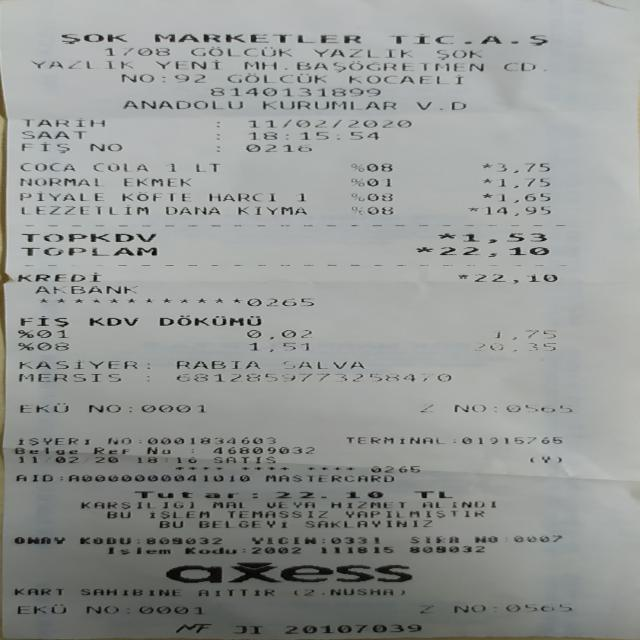text: (164, 562, 412, 584), (243, 58, 483, 74), (176, 371, 450, 384), (154, 33, 360, 44), (210, 85, 378, 97), (68, 472, 248, 483), (388, 34, 548, 46), (2, 204, 147, 217), (262, 98, 394, 112), (247, 118, 409, 129), (285, 622, 420, 634), (122, 98, 241, 111), (336, 74, 464, 86), (30, 57, 131, 72), (266, 472, 392, 484), (18, 358, 134, 371), (20, 246, 157, 257), (345, 508, 482, 519), (147, 435, 274, 446), (21, 232, 156, 242), (189, 45, 291, 58), (248, 130, 378, 140), (4, 190, 103, 203), (158, 314, 260, 326), (17, 371, 119, 383), (1, 176, 102, 188), (226, 72, 326, 84), (80, 586, 180, 598), (276, 488, 382, 499), (138, 488, 243, 499), (304, 519, 431, 528), (438, 246, 548, 256), (0, 271, 100, 282), (176, 358, 260, 371), (345, 435, 443, 446), (282, 358, 364, 371), (304, 586, 392, 598), (79, 500, 196, 509), (458, 435, 562, 445), (34, 285, 137, 295), (61, 30, 125, 46), (313, 48, 413, 58), (212, 445, 312, 455), (226, 509, 326, 519), (156, 57, 218, 73), (23, 116, 104, 128), (197, 586, 273, 598), (120, 190, 188, 203), (238, 204, 306, 217), (462, 232, 546, 242), (473, 273, 556, 283), (123, 176, 190, 188), (466, 342, 555, 351), (208, 190, 274, 202), (242, 296, 314, 307), (198, 519, 286, 528), (320, 544, 392, 555), (246, 328, 310, 340), (329, 499, 403, 509), (422, 499, 494, 509), (104, 46, 169, 57), (485, 205, 549, 216), (12, 445, 76, 456), (165, 204, 219, 217), (140, 510, 218, 519), (22, 129, 85, 140), (506, 402, 569, 413), (106, 545, 169, 556), (19, 314, 67, 328), (408, 545, 491, 553), (488, 329, 554, 339), (248, 341, 308, 352), (20, 140, 67, 154), (20, 161, 74, 173), (93, 162, 147, 174), (497, 161, 550, 173), (18, 401, 66, 414), (140, 404, 209, 413), (12, 586, 63, 598), (78, 535, 133, 546), (184, 544, 234, 556), (419, 99, 463, 112), (498, 177, 549, 188), (497, 192, 548, 203), (247, 536, 317, 544), (145, 537, 224, 544), (213, 455, 274, 464), (507, 603, 568, 612), (137, 455, 196, 464), (15, 535, 63, 546), (330, 534, 378, 545), (508, 534, 566, 543), (16, 437, 90, 444), (246, 144, 310, 152), (435, 49, 481, 60), (442, 603, 487, 613), (265, 499, 314, 508), (500, 62, 536, 74), (370, 464, 418, 473), (248, 546, 302, 554), (89, 141, 121, 154), (85, 603, 117, 616), (415, 488, 452, 499), (36, 340, 68, 352), (407, 536, 461, 543), (121, 72, 152, 84), (91, 445, 128, 455), (15, 472, 51, 482), (174, 74, 206, 84), (86, 404, 121, 413), (36, 328, 67, 338), (526, 455, 564, 463), (100, 435, 133, 444), (366, 206, 398, 215), (451, 404, 486, 412), (212, 500, 242, 509), (365, 162, 391, 172), (105, 509, 128, 520), (54, 455, 82, 464), (145, 445, 169, 455), (158, 519, 182, 529), (364, 193, 394, 201), (366, 177, 389, 187), (415, 245, 434, 257), (474, 534, 495, 544), (93, 456, 119, 464), (436, 232, 454, 243), (17, 340, 33, 352), (18, 455, 36, 464), (17, 328, 33, 338), (418, 403, 434, 413), (138, 358, 149, 371), (493, 402, 505, 413), (133, 535, 145, 546), (349, 206, 365, 214), (348, 193, 362, 201), (480, 192, 490, 203), (252, 488, 262, 499), (482, 162, 491, 174), (457, 273, 467, 283), (491, 603, 501, 613), (482, 177, 491, 188), (468, 205, 477, 216), (350, 162, 359, 173), (296, 190, 304, 202), (350, 177, 358, 187), (242, 544, 248, 556), (213, 121, 221, 128), (213, 145, 221, 152), (170, 162, 174, 174), (293, 586, 297, 598), (161, 70, 164, 84), (128, 402, 131, 414), (146, 371, 148, 384), (127, 603, 129, 616), (137, 435, 139, 446), (321, 534, 323, 545), (216, 131, 218, 141), (190, 445, 192, 455), (60, 472, 61, 482)
